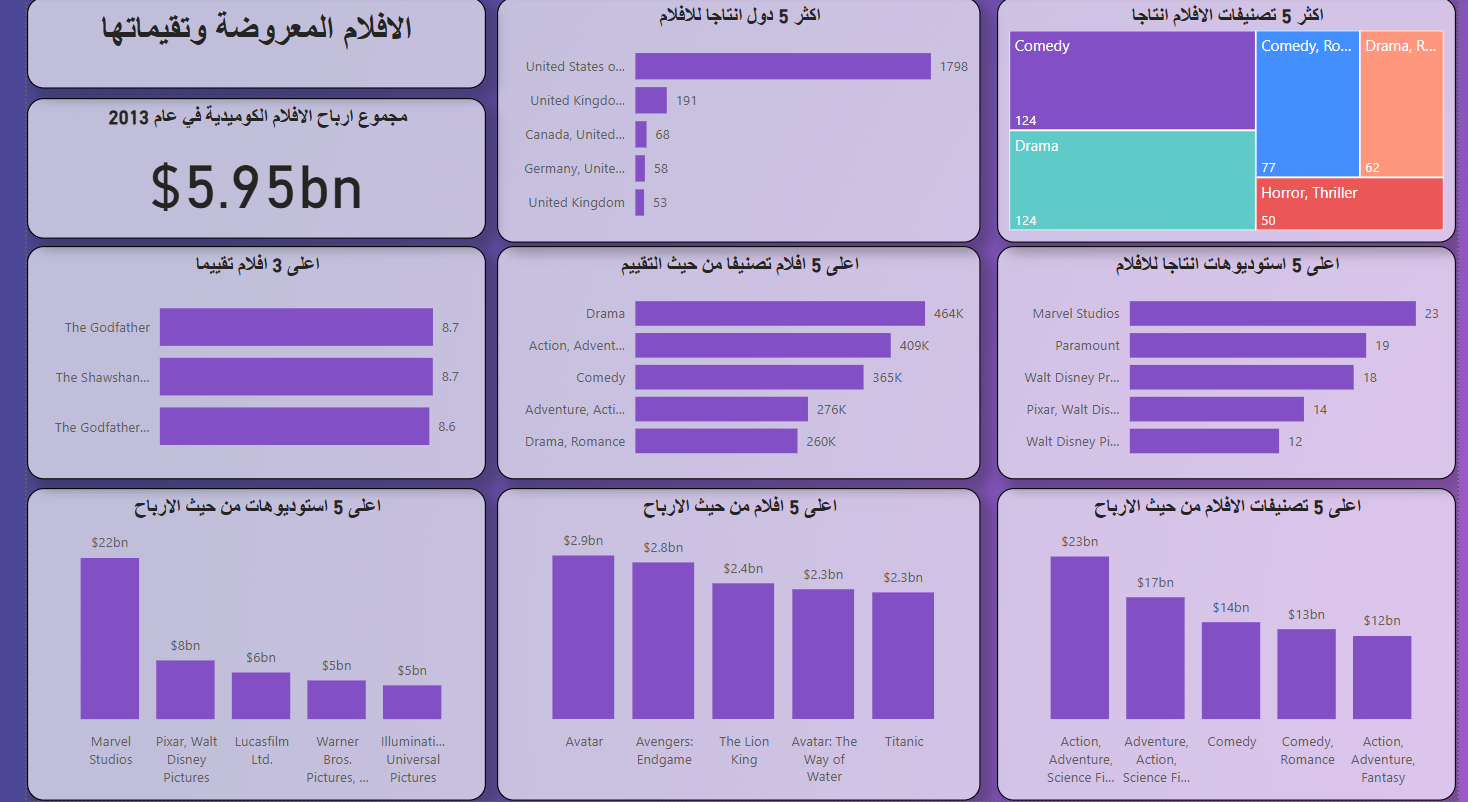

Layout of this report page (visuals, bound fields, positions):
{"tool":"powerbi","page":{"name":"Page 1","canvas":[1280,720],"ordinal":0},"visuals":[{"type":"clusteredColumnChart","title":"اعلى 5 استوديوهات من حيث الارباح","fields":{"Category":["Sheet1.production_companies"],"Y":["Sum(Sheet1.revenue)"]},"box":[0,440,411,280],"z":0},{"type":"clusteredColumnChart","title":"اعلى 5 افلام من حيث الارباح","fields":{"Y":["Sum(Sheet1.revenue)"],"Category":["Sheet1.title"]},"box":[421.1,440,433.3,280],"z":1000},{"type":"clusteredColumnChart","title":"اعلى 5 تصنيفات الافلام من حيث الارباح","fields":{"Y":["Sum(Sheet1.revenue)"],"Category":["Sheet1.genres"]},"box":[868.9,440,411.1,280],"z":2000},{"type":"clusteredBarChart","title":"اعلى 3 افلام تقييما","fields":{"Category":["Sheet1.title"],"Y":["Avg(Sheet1.vote_average)"]},"box":[0,223.2,411.1,208.9],"z":3000},{"type":"clusteredBarChart","title":"اعلى 5 افلام تصنيفا من حيث التقييم","fields":{"Category":["Sheet1.genres"],"Y":["Sum(Sheet1.vote_count)"]},"box":[421.1,223.2,433.3,208.9],"z":4000},{"type":"clusteredBarChart","title":"اعلى 5 استوديوهات انتاجا للافلام","fields":{"Category":["Sheet1.production_companies"],"Y":["CountNonNull(Sheet1.title)"]},"box":[868.9,223.2,411.1,208.9],"z":5000},{"type":"treemap","title":"اكثر 5 تصنيفات الافلام انتاجا","fields":{"Group":["Sheet1.genres"],"Values":["CountNonNull(Sheet1.title)"]},"box":[868.9,0,411.1,220],"z":6000},{"type":"clusteredBarChart","title":"اكثر 5 دول انتاجا للافلام","fields":{"Category":["Sheet1.production_countries"],"Y":["CountNonNull(Sheet1.production_countries)"]},"box":[421.1,0,433.3,220],"z":7000},{"type":"card","title":"مجموع ارباح الافلام الكوميدية في عام 2013","fields":{"Values":["Sum(Sheet1.revenue)"]},"box":[0,90,411.1,125.6],"z":8000},{"type":"textbox","box":[0,0,411.1,82.2],"z":9000}]}

Visuals, with their boxes in screenshot pixels (x1, y1, x2, y2), scaled from the page's 1280x720 canvas onto the 1468x802 screenshot:
"اعلى 5 استوديوهات من حيث الارباح" clusteredColumnChart: bbox(0, 490, 471, 801)
"اعلى 5 افلام من حيث الارباح" clusteredColumnChart: bbox(483, 490, 980, 801)
"اعلى 5 تصنيفات الافلام من حيث الارباح" clusteredColumnChart: bbox(997, 490, 1467, 801)
"اعلى 3 افلام تقييما" clusteredBarChart: bbox(0, 249, 471, 481)
"اعلى 5 افلام تصنيفا من حيث التقييم" clusteredBarChart: bbox(483, 249, 980, 481)
"اعلى 5 استوديوهات انتاجا للافلام" clusteredBarChart: bbox(997, 249, 1467, 481)
"اكثر 5 تصنيفات الافلام انتاجا" treemap: bbox(997, 0, 1467, 245)
"اكثر 5 دول انتاجا للافلام" clusteredBarChart: bbox(483, 0, 980, 245)
"مجموع ارباح الافلام الكوميدية في عام 2013" card: bbox(0, 100, 471, 240)
textbox: bbox(0, 0, 471, 92)
